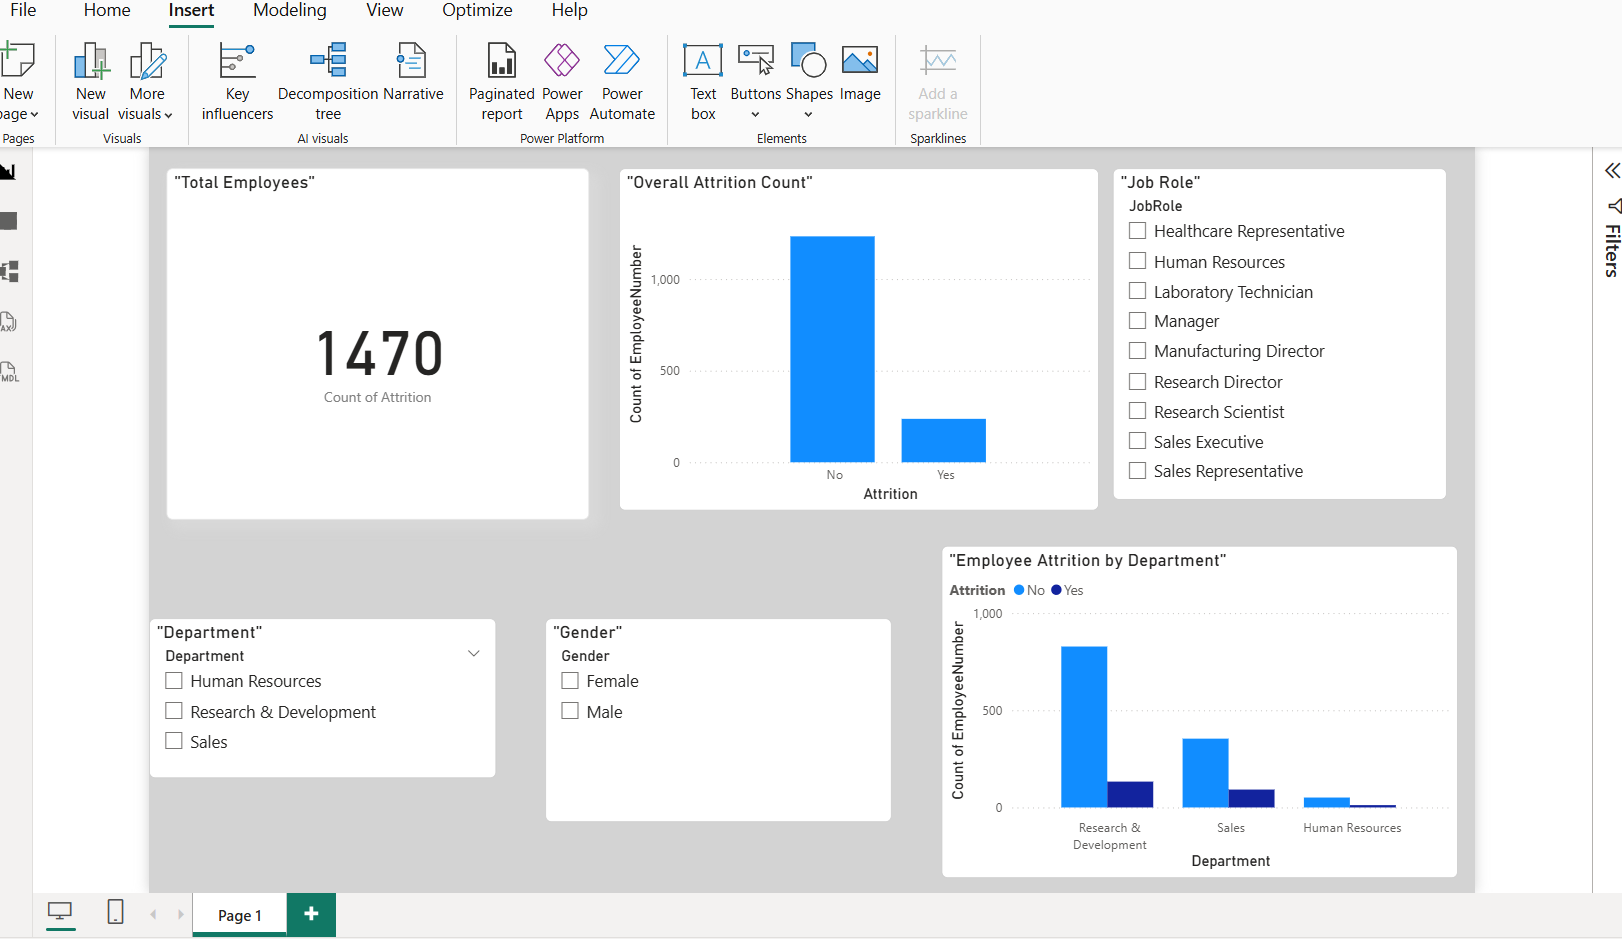

The page's visual inventory and layout, read from the dashboard file:
{"tool":"powerbi","page":{"name":"Page 1","canvas":[1280,720],"ordinal":0},"visuals":[{"type":"card","title":"\"Total  Employees\"","fields":{"Values":["CountNonNull(HR Analytics Data_Exp11.Attrition)"]},"box":[16.9,20.5,407.8,339],"z":0},{"type":"clusteredColumnChart","title":"\"Overall Attrition Count\" ","fields":{"Category":["HR Analytics Data_Exp11.Attrition"],"Y":["CountNonNull(HR Analytics Data_Exp11.EmployeeNumber)"]},"box":[453.6,20.5,463.3,330.6],"z":1000},{"type":"slicer","title":"\"Gender\"","fields":{"Values":["HR Analytics Data_Exp11.Gender"]},"box":[382.4,454.8,334.2,196.6],"z":2000},{"type":"slicer","title":"\"Job Role\"","fields":{"Values":["HR Analytics Data_Exp11.JobRole"]},"box":[930.2,20.5,322.1,319.7],"z":3000},{"type":"clusteredColumnChart","title":"\"Employee Attrition by Department\"","fields":{"Category":["HR Analytics Data_Exp11.Department"],"Y":["CountNonNull(HR Analytics Data_Exp11.EmployeeNumber)"],"Series":["HR Analytics Data_Exp11.Attrition"]},"box":[764.9,384.9,498.3,320.9],"z":4000},{"type":"slicer","title":"\"Department\"","fields":{"Values":["HR Analytics Data_Exp11.Department"]},"box":[0,454.8,335.4,154.4],"z":5000}]}

Visuals, with their boxes on the page's 1280x720 design canvas (x1, y1, x2, y2). These are canvas units, not pixel positions in the 1622x939 screenshot, which may show the page scaled, cropped or inside an application window:
""Total  Employees"" card: <region>17, 20, 425, 360</region>
""Overall Attrition Count" " clusteredColumnChart: <region>454, 20, 917, 351</region>
""Gender"" slicer: <region>382, 455, 717, 651</region>
""Job Role"" slicer: <region>930, 20, 1252, 340</region>
""Employee Attrition by Department"" clusteredColumnChart: <region>765, 385, 1263, 706</region>
""Department"" slicer: <region>0, 455, 335, 609</region>
